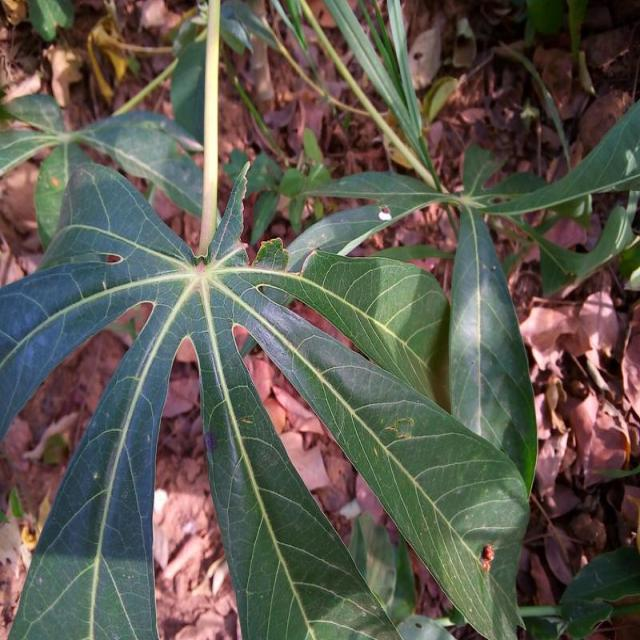cassava leaf: (1, 155, 534, 638)
